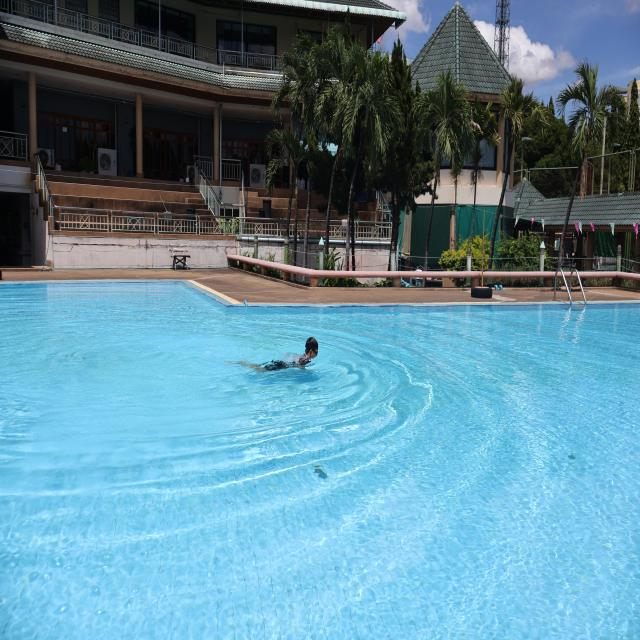Swimming: (228, 331, 321, 375)
